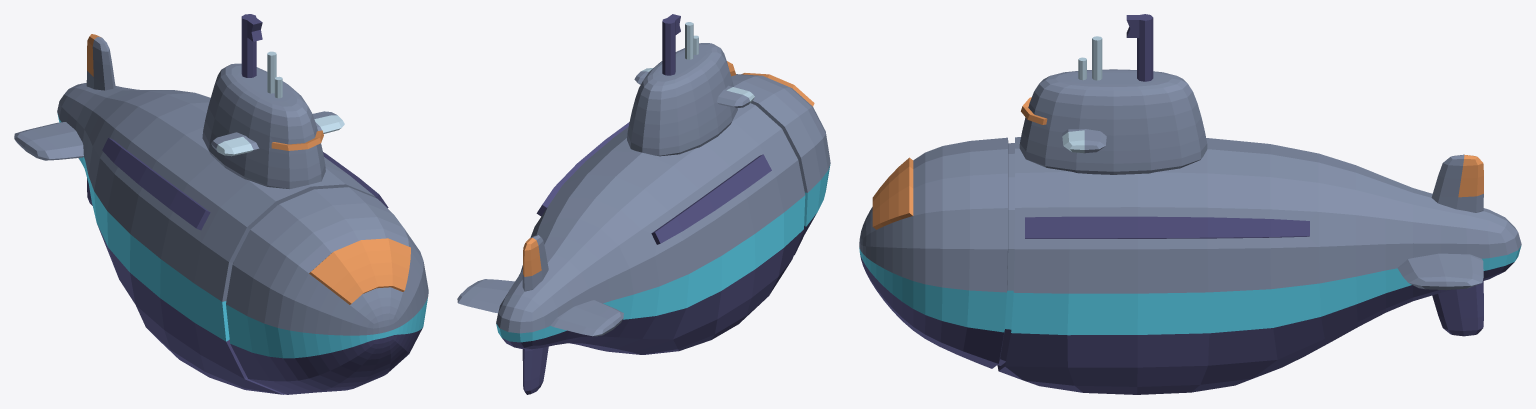
Rendered from kapal selam.fbx.
3 views of the same model, side by side, from view 1: azimuth 30°, elevation 25°; view 2: azimuth 150°, elevation 25°; view 3: azimuth 270°, elevation 25° (orthographic). The views are drawn at different scales.
Parts seen in each view (by area): view 1: Cube, Cube.001, Cube.004, Cube.003, Cube.002, Cylinder, Cylinder.001; view 2: Cube, Cube.001, Cube.004, Cube.003, Cylinder, Cube.002, Cylinder.001; view 3: Cube, Cube.001, Cube.003, Cube.004, Cylinder, Cube.002.
Boxes of the visible parts, x1,y1,x2,y2 form: Cube: (57,83,428,394); Cube.001: (202,63,325,188); Cube.004: (14,122,83,160); Cube.003: (86,34,115,205); Cube.002: (211,111,344,156); Cylinder: (241,14,262,77); Cylinder.001: (267,51,276,93); Cube: (496,73,830,354); Cube.001: (627,43,737,156); Cube.004: (457,279,623,336); Cube.003: (522,235,548,394); Cylinder: (662,14,680,75); Cube.002: (634,68,754,108); Cylinder.001: (685,22,693,59); Cube: (859,137,1521,394); Cube.001: (1019,69,1207,174); Cube.003: (1431,154,1483,336); Cube.004: (1397,253,1483,290); Cylinder: (1126,14,1153,81); Cube.002: (1062,129,1106,153).
Bounding box in the file's own units: 187 × 319 × 549.
